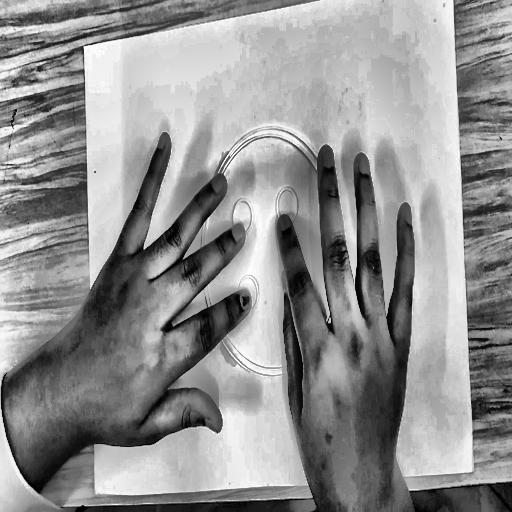bottom_left: (91, 483, 100, 500)
bottom_right: (468, 458, 479, 477)
button: (192, 109, 357, 393)
top_left: (80, 41, 87, 51)
